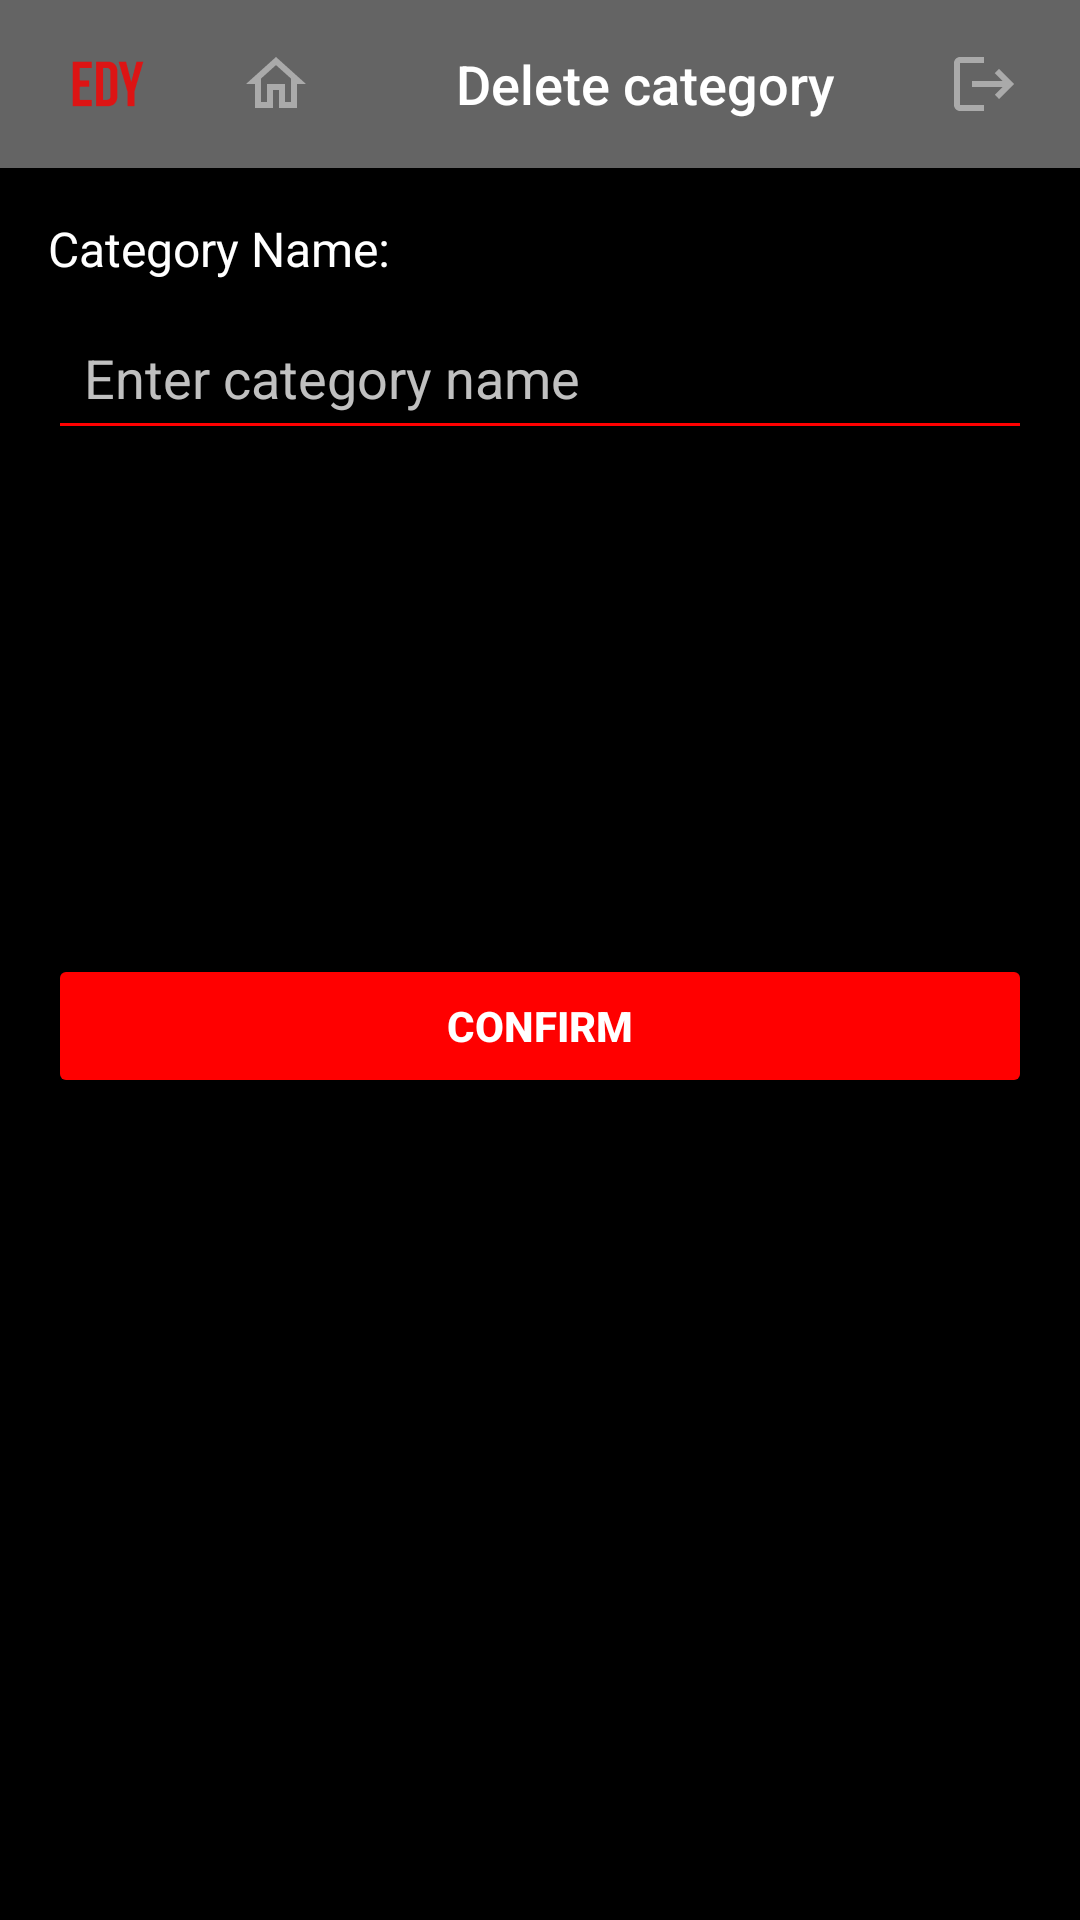

Screen size 1080w x 1920h. Icon name, then its center in pixels as [x,y]:
Home Button: [276,82]
